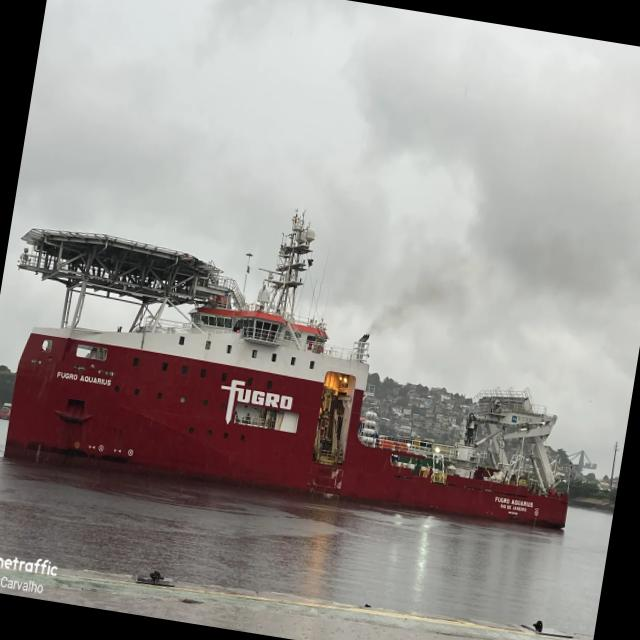Offshore: (5, 215, 568, 529)
